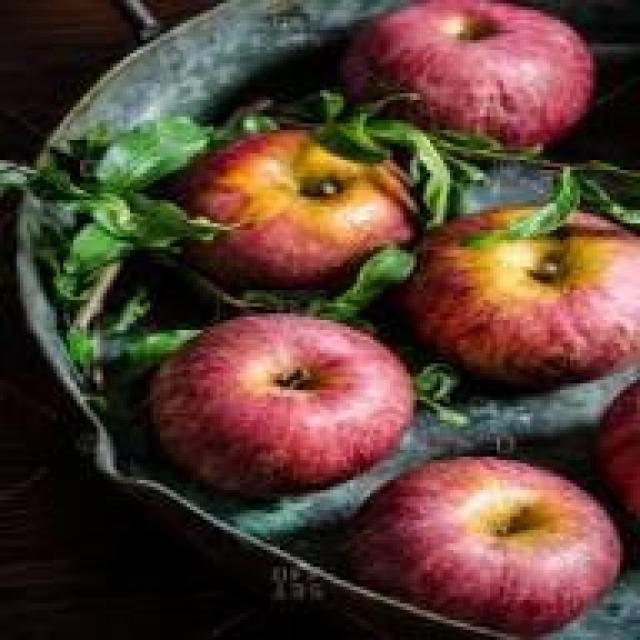apple: (344, 450, 634, 617), (143, 320, 427, 487), (410, 203, 637, 370), (167, 134, 423, 274), (354, 10, 604, 150)
